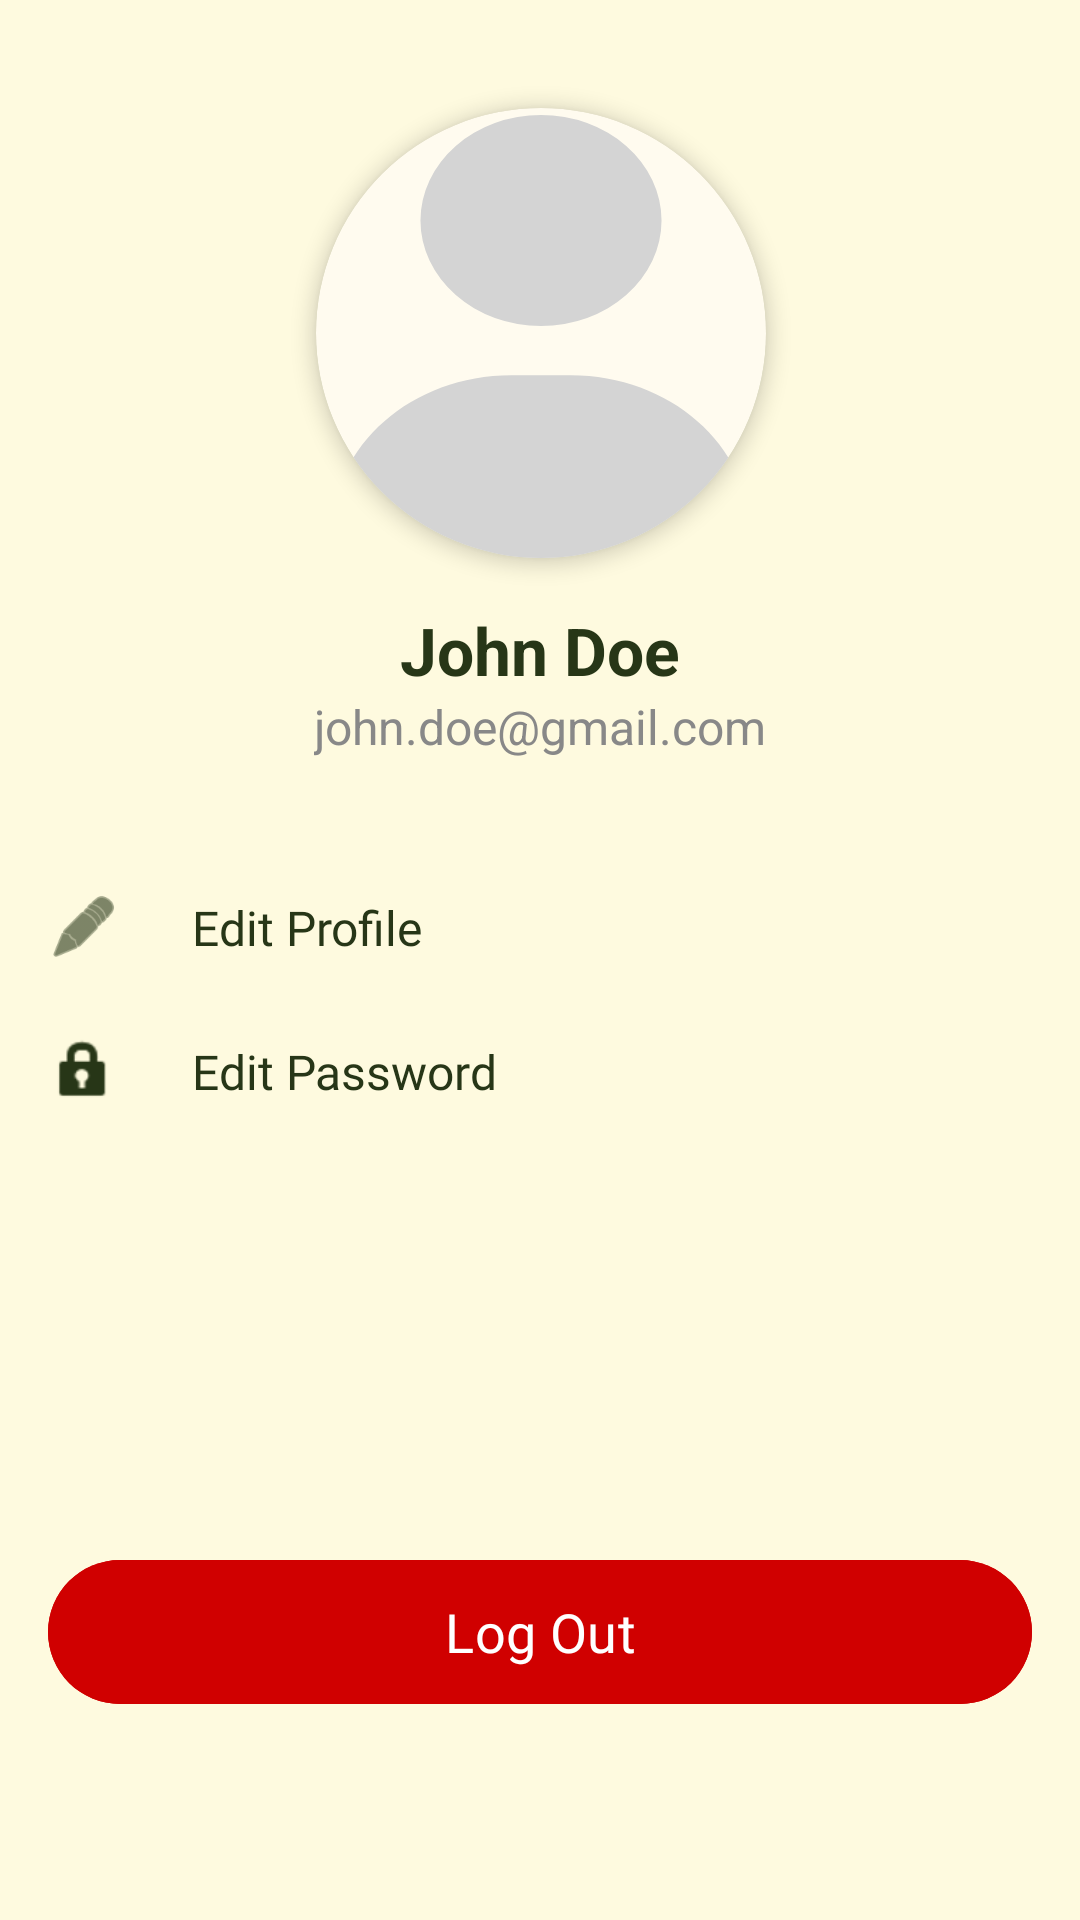

Icon bounding boxes for this 1080 × 1920 phone screenshot, format (x1, y1, x2, y2):
Lock Icon: (59, 1041, 106, 1096)
